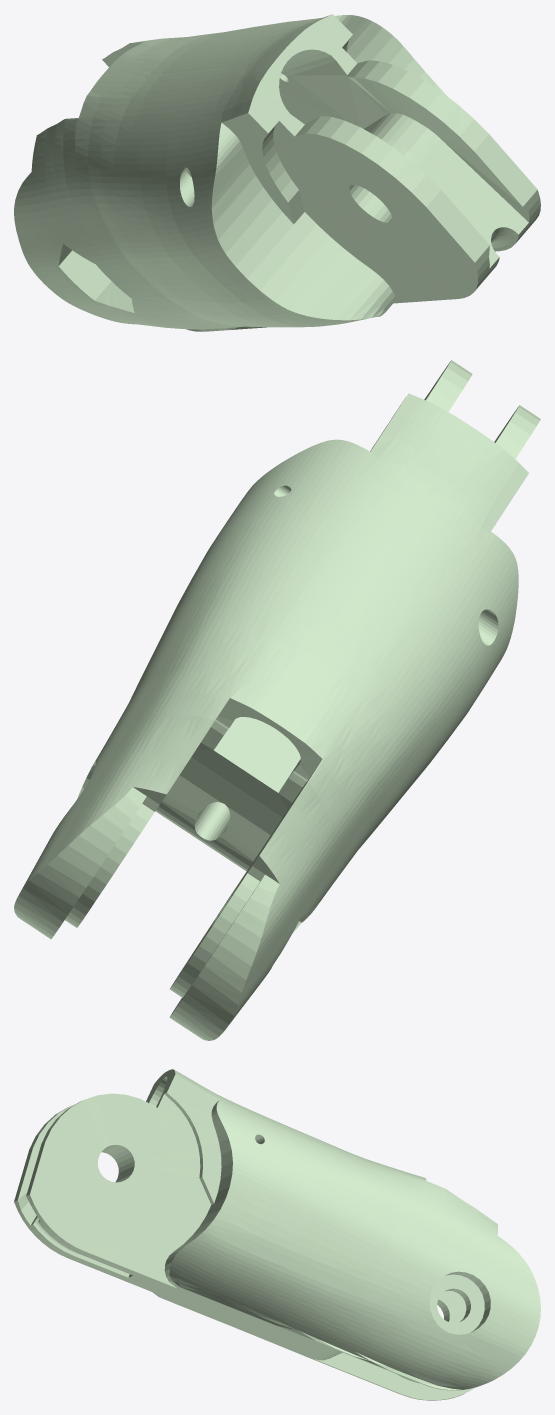
The model's file is i02_rightHand_majeurePhal_visual.obj.full.glb.
3 renders of one model, top to bottom at view 1: azimuth 30°, elevation 25°; view 2: azimuth 150°, elevation 25°; view 3: azimuth 270°, elevation 25°, orthographic. The views are drawn at different scales.
Bounding box in the file's own units: 0.2039 × 0.3366 × 0.5012.
